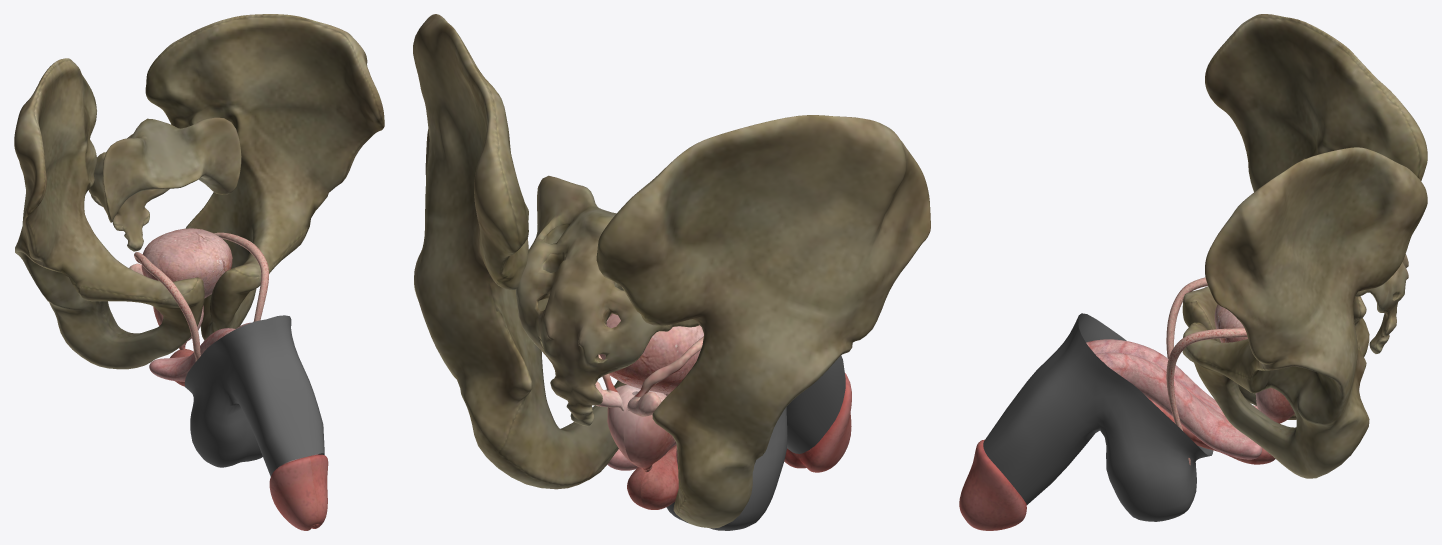
File: model_B11_BoPhanSinhDucNam.fbx
The picture shows the model from 3 angles, left to right: view 1: azimuth 30°, elevation 25°; view 2: azimuth 150°, elevation 25°; view 3: azimuth 270°, elevation 25°; orthographic projection. The views are drawn at different scales.
Parts seen in each view (by area): view 1: Skeletal_Pelvis, Biu, Skeletal_Sacrum, Bangquang, polySurface29, polySurface31, ongdantinh_P, DuongVat_T, ongdantinh_T; view 2: Skeletal_Pelvis, Skeletal_Sacrum, Biu, polySurface29, Bangquang, Tuyentienliet_P, DuongVat_T, Tuyentienliet_T, ongdantinh_P; view 3: Skeletal_Pelvis, Biu, DuongVat_T, Skeletal_Sacrum, ongdantinh_T, polySurface31, Tuyentienliet_T, ongdantinh_P, DuongVat_P, Bangquang.
Boxes of the visible parts, box(x1,y1,x2,y2) form: Skeletal_Pelvis: box(14, 14, 384, 369); Biu: box(184, 315, 324, 476); Skeletal_Sacrum: box(89, 117, 241, 251); Bangquang: box(141, 228, 232, 298); polySurface29: box(170, 349, 318, 530); polySurface31: box(149, 328, 296, 467); ongdantinh_P: box(134, 252, 200, 361); DuongVat_T: box(185, 322, 328, 528); ongdantinh_T: box(214, 232, 268, 321); Skeletal_Pelvis: box(413, 14, 930, 528); Skeletal_Sacrum: box(516, 175, 699, 426); Biu: box(666, 355, 845, 530); polySurface29: box(641, 373, 851, 509); Bangquang: box(599, 313, 703, 393); Tuyentienliet_P: box(623, 390, 674, 469); DuongVat_T: box(607, 393, 806, 508); Tuyentienliet_T: box(607, 385, 643, 469); ongdantinh_P: box(627, 336, 703, 410); Skeletal_Pelvis: box(1182, 14, 1427, 478); Biu: box(983, 313, 1213, 521); DuongVat_T: box(959, 352, 1275, 530); Skeletal_Sacrum: box(1301, 158, 1408, 353); ongdantinh_T: box(1166, 328, 1247, 465); polySurface31: box(1086, 339, 1257, 411); Tuyentienliet_T: box(1255, 388, 1294, 423); ongdantinh_P: box(1166, 277, 1207, 358); DuongVat_P: box(1086, 340, 1258, 417); Bangquang: box(1214, 304, 1247, 342).
Size of the model in its own units: 11.34 by 11.57 by 11.25.
5 materials, 3 textured.
